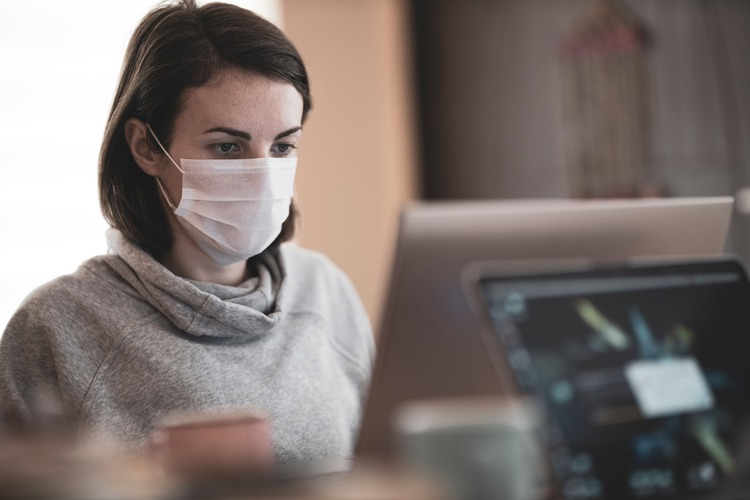without_mask: (159, 82, 301, 261)
